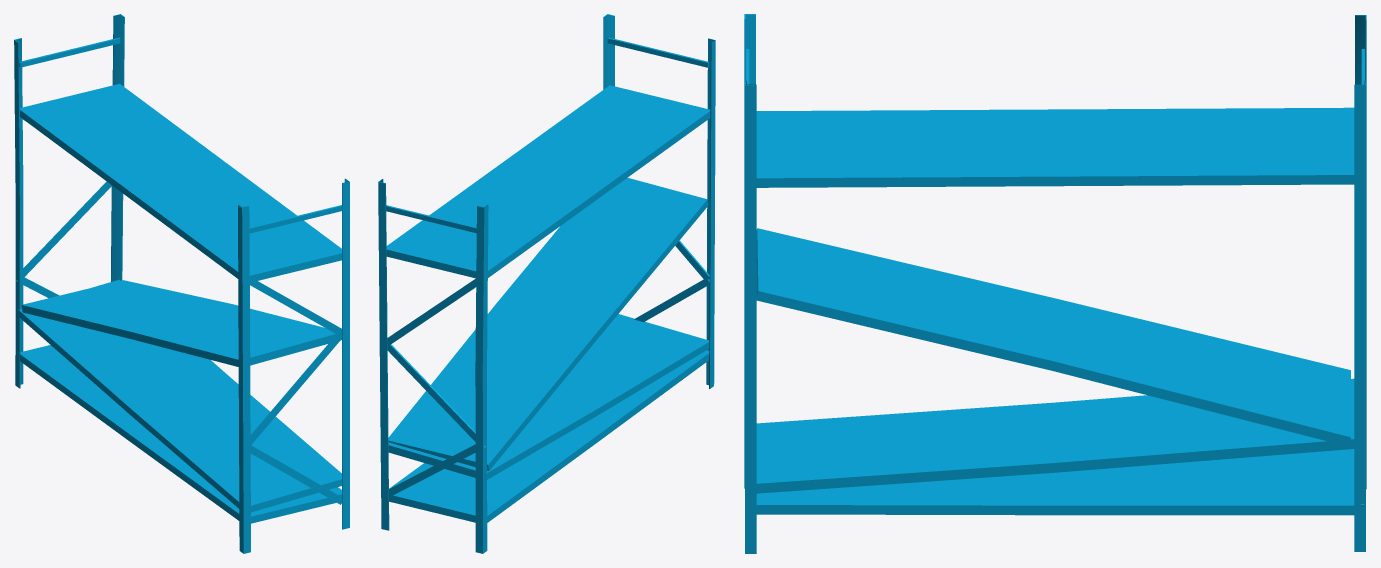
File: Warehouse_Shelf_01_Break_Lod0.fbx
3 renders of one model, left to right at view 1: azimuth 30°, elevation 25°; view 2: azimuth 150°, elevation 25°; view 3: azimuth 270°, elevation 25°, orthographic. The views are drawn at different scales.
Parts seen in each view (by area): view 1: Warehouse_Shelf_01_Break_Lod0; view 2: Warehouse_Shelf_01_Break_Lod0; view 3: Warehouse_Shelf_01_Break_Lod0.
Part boxes in pixels (x1=…): Warehouse_Shelf_01_Break_Lod0: x1=14, y1=14, x2=349, y2=553; Warehouse_Shelf_01_Break_Lod0: x1=378, y1=14, x2=715, y2=553; Warehouse_Shelf_01_Break_Lod0: x1=744, y1=14, x2=1366, y2=553.
Size of the model in its own units: 75.81 by 232 by 279.
